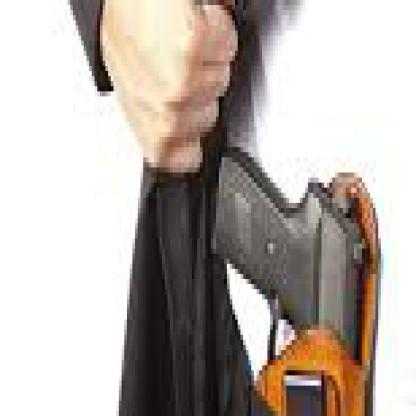gun: (116, 0, 413, 411)
